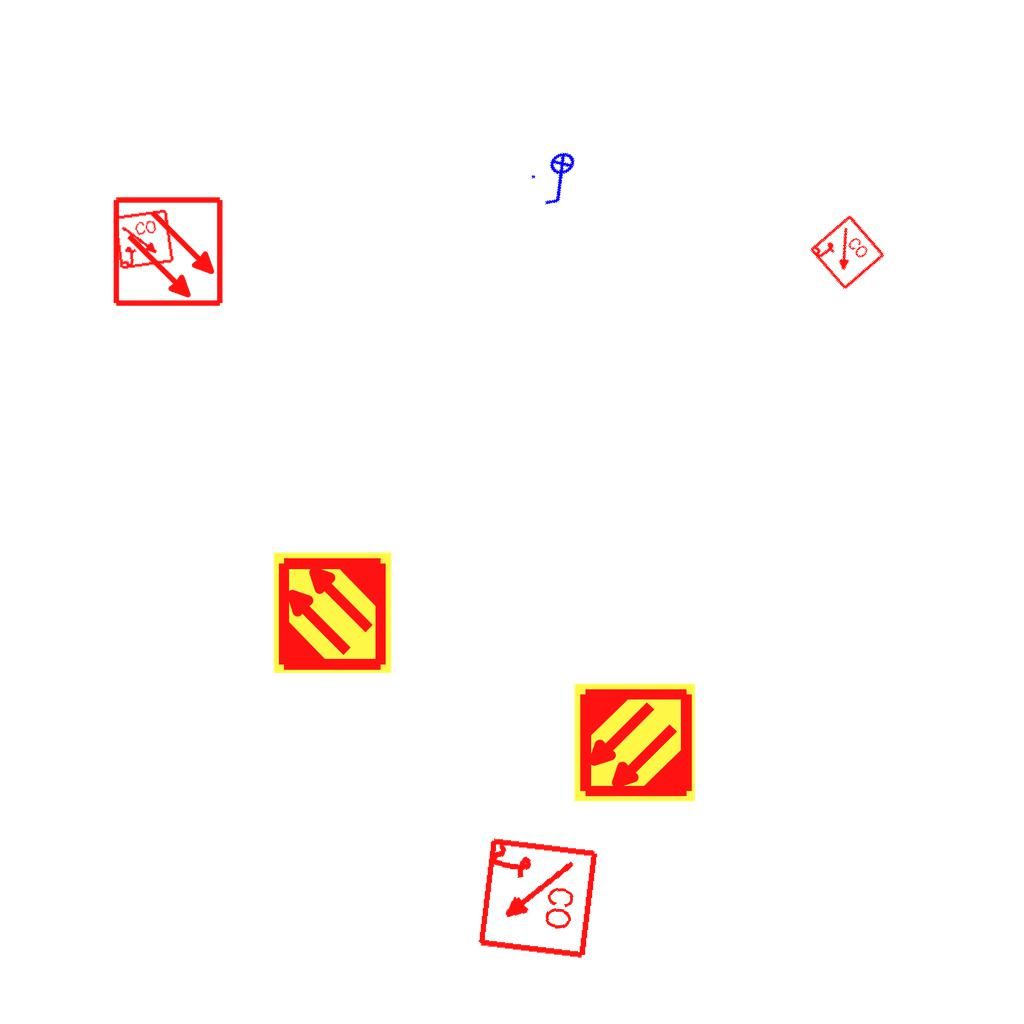ASR_Ansaugrauchmelder: (572, 680, 697, 805), (270, 550, 395, 675)
Ausschalter_beleuchtet: (524, 145, 596, 213)
RMO_Rauchmelder_optischer: (112, 195, 225, 308)
ROA_Rauchmelder_optisch_mit_Signalgeber_(Sockelsirene): (473, 835, 600, 962), (807, 213, 887, 293), (112, 208, 176, 272)
